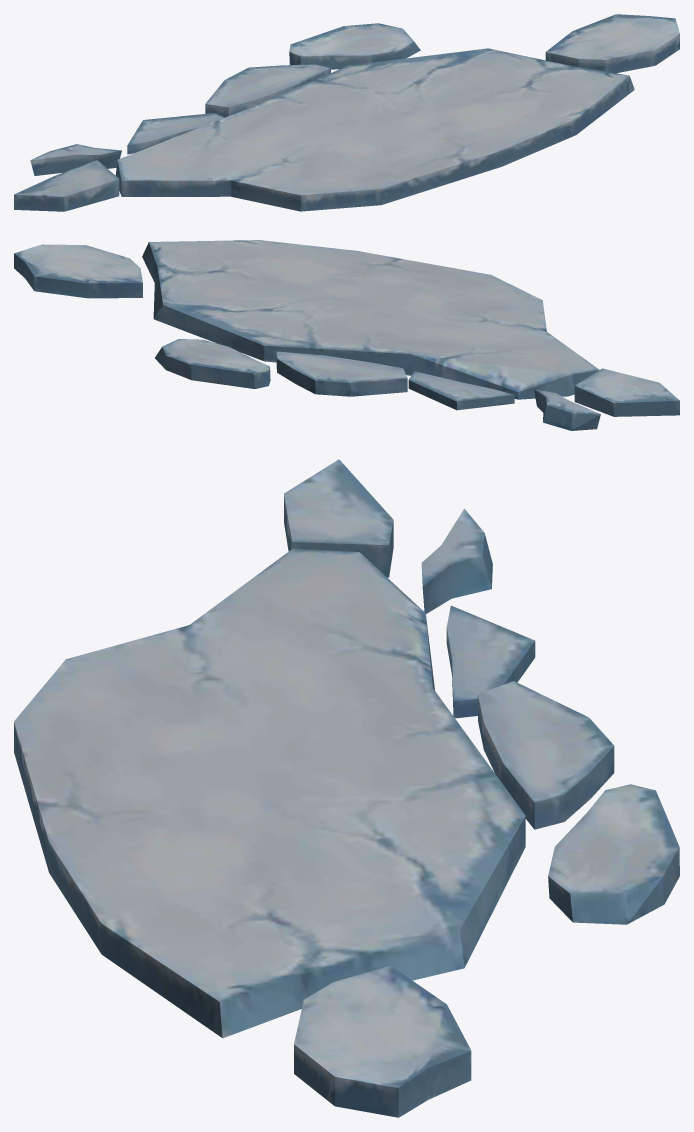
File: map_114_shitou_10.fbx
3 views of the same model, one above another, from view 1: azimuth 30°, elevation 25°; view 2: azimuth 150°, elevation 25°; view 3: azimuth 270°, elevation 25° (orthographic). The views are drawn at different scales.
Visible parts, largest first — view 1: map_114_shitou_10; view 2: map_114_shitou_10; view 3: map_114_shitou_10.
Part boxes in pixels (<box>): map_114_shitou_10: <box>14,14,679,211</box>; map_114_shitou_10: <box>14,240,679,430</box>; map_114_shitou_10: <box>14,459,679,1117</box>.
Size of the model in its own units: 3.61 by 0.1253 by 1.62.
